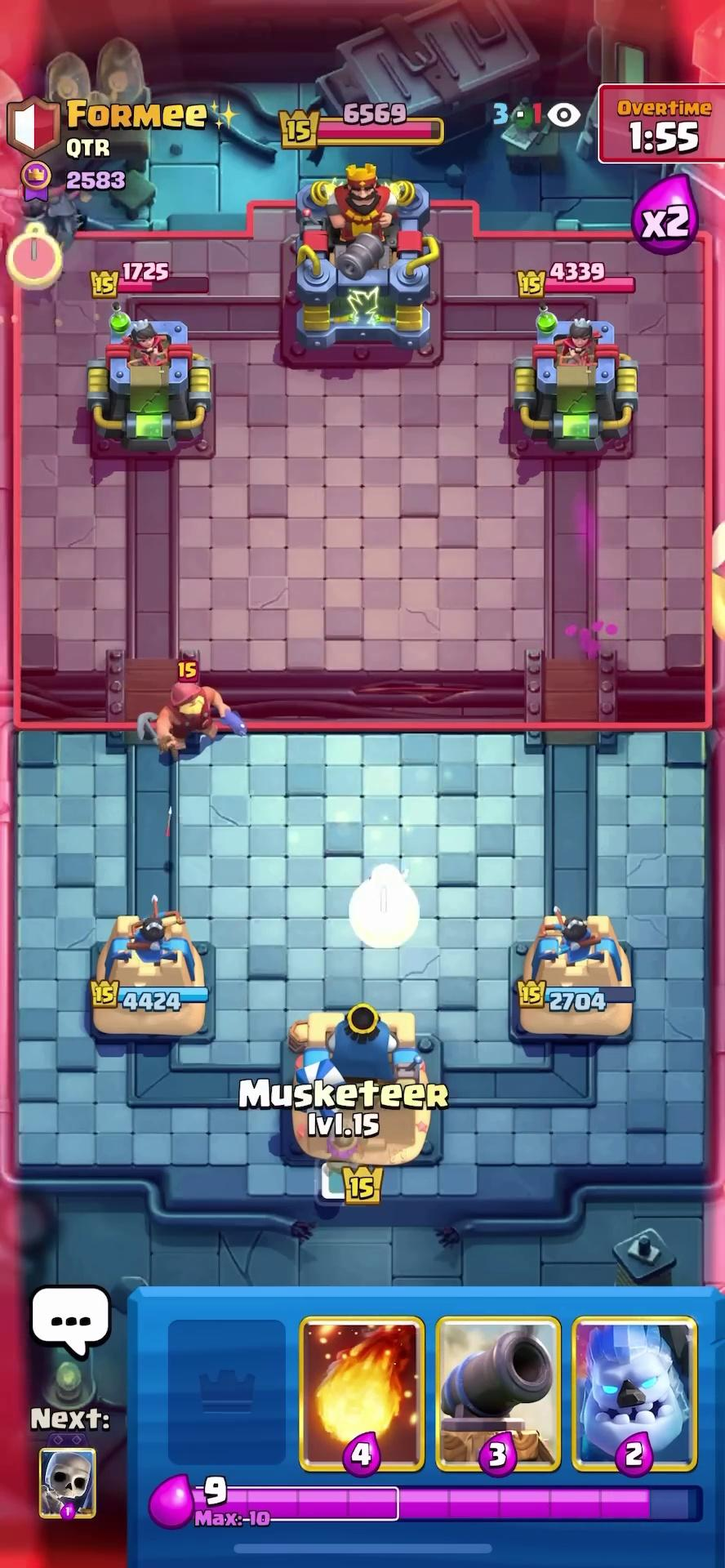ice_spirit: (361, 843, 416, 909)
